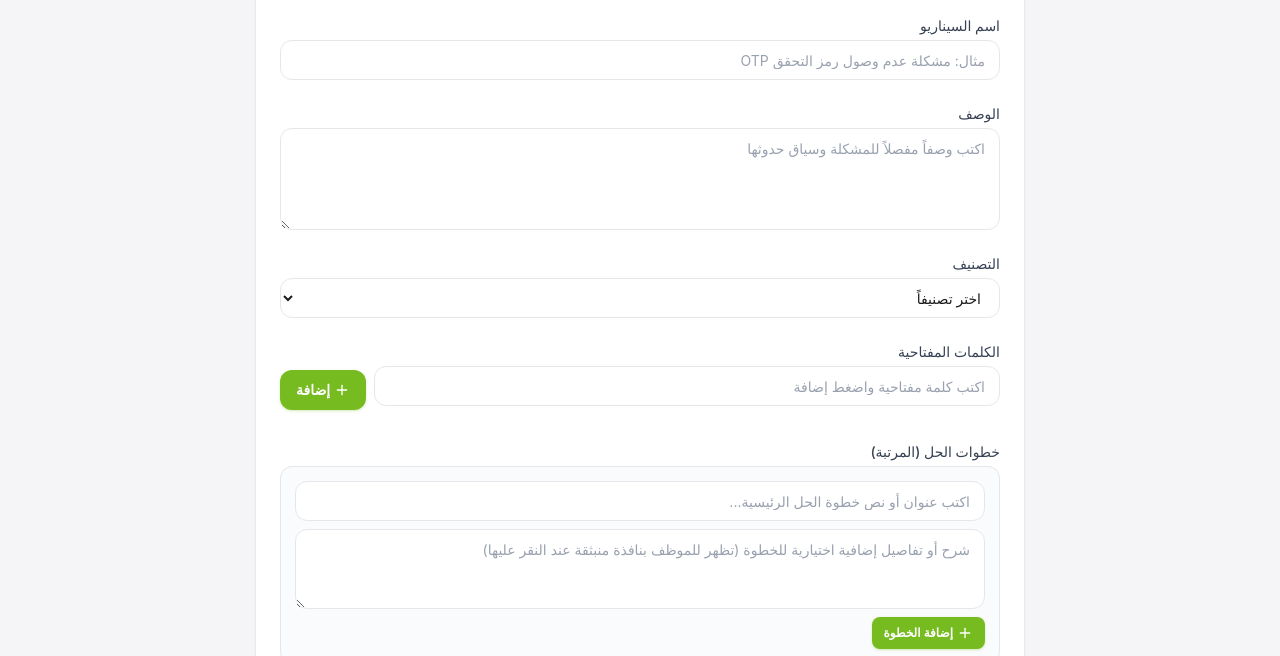
Scenario: CreateScenarioPage - ADM-KB-003 › blocks submission of Active scenario without resolution steps and displays error modal
// Fill in Name, Description, Category
Step 1. Type "سيناريو تجريبي للاختبار" into the field with test id "scenario-name-input" → (640, 60), box 280,40 -> 1000,80
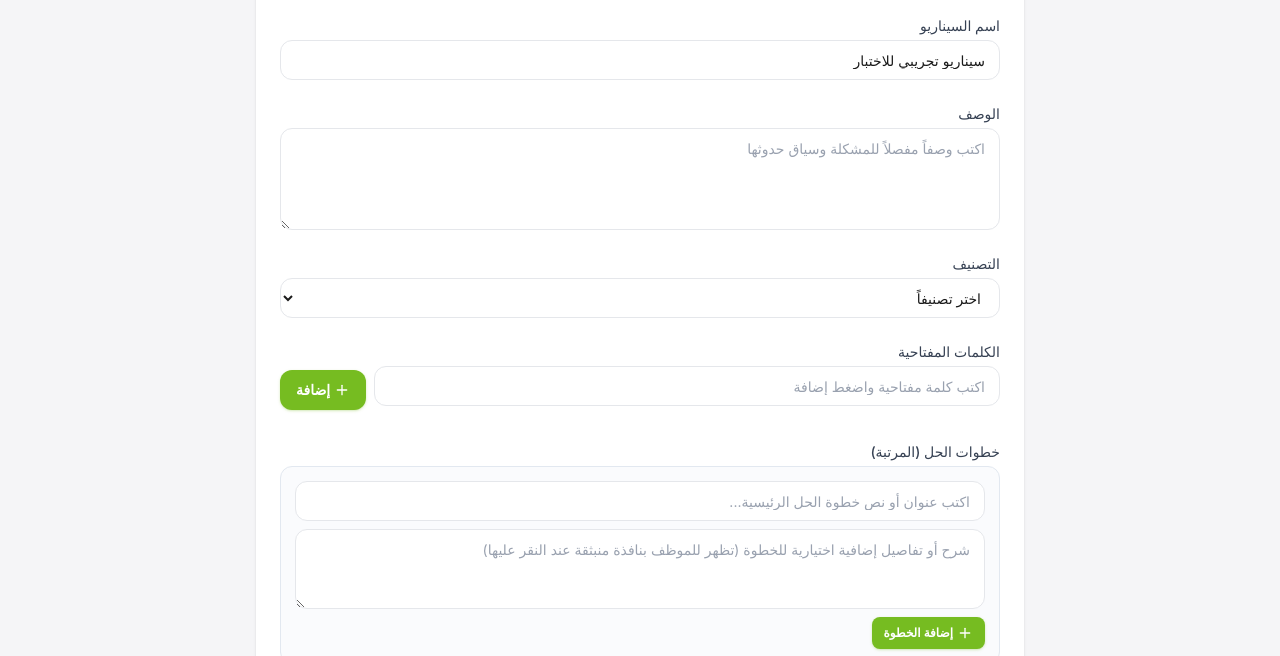
Step 2. Type "وصف مفصل للسيناريو التجريبي" into the text box with test id "scenario-description-input" → (640, 179), box 280,128 -> 1000,230
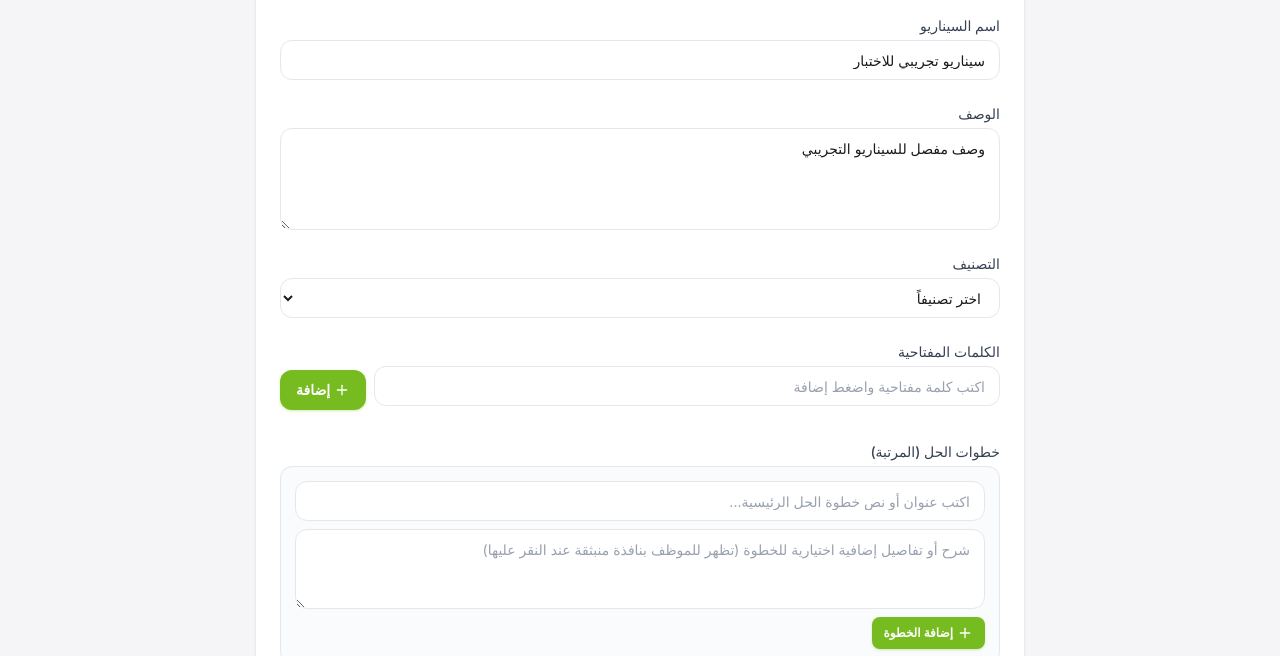
Step 3. Select "الدعم الفني" in the dropdown with test id "scenario-category-select" → (640, 298), box 280,278 -> 1000,318
(page scrolled)
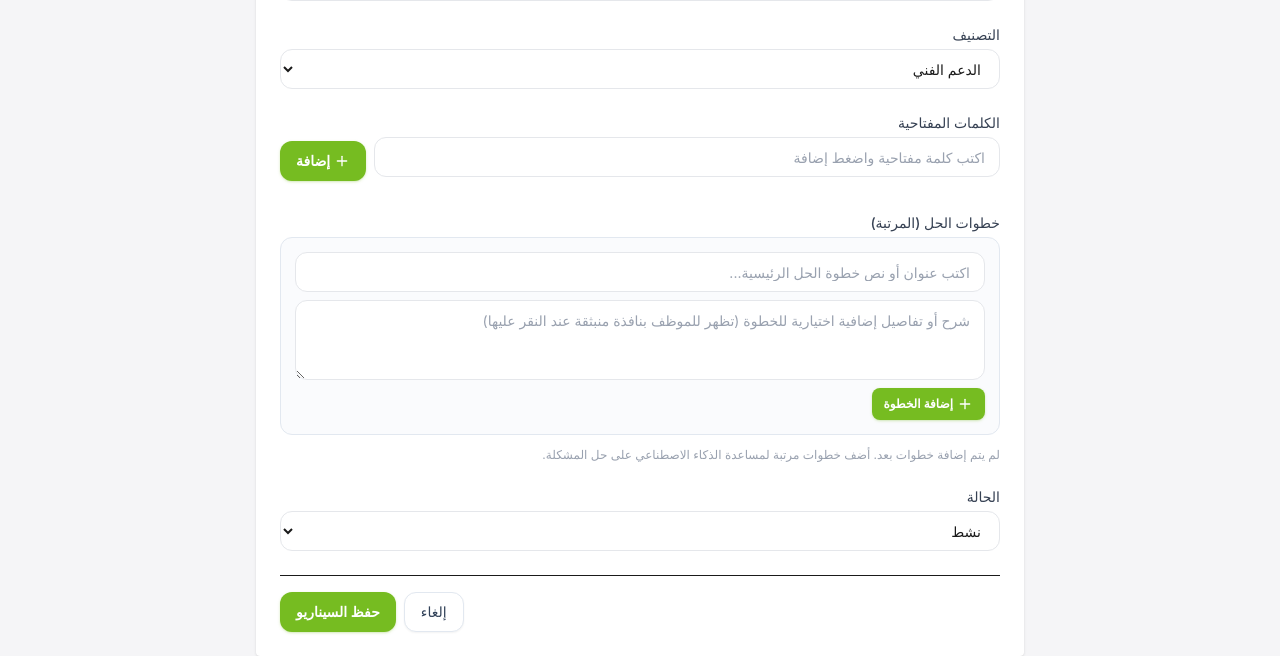
// Click submit
Step 4. Click the button with test id "submit-scenario-btn" → (338, 612), box 280,592 -> 396,632
(page scrolled)
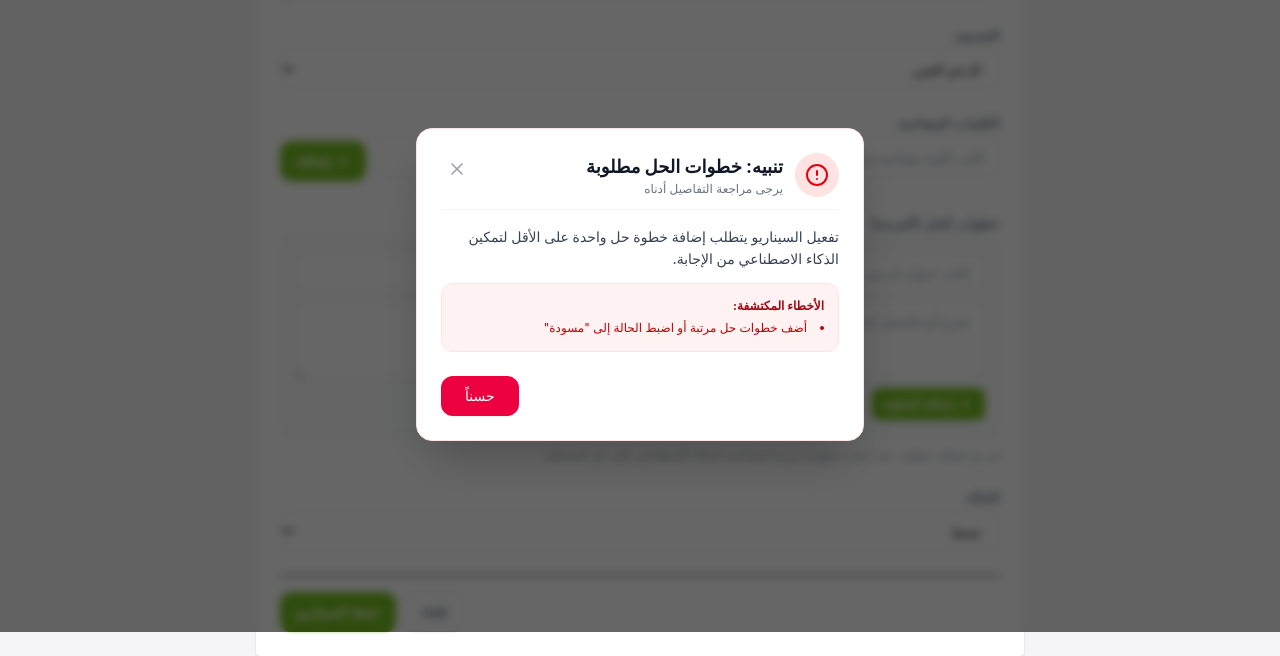
Expected: the dialog with test id "error-modal" is shown, 416,128 -> 864,440
Expected: the text "تفعيل السيناريو يتطلب إضافة خطوة حل واحدة على الأقل" is shown, 468,228 -> 839,267
